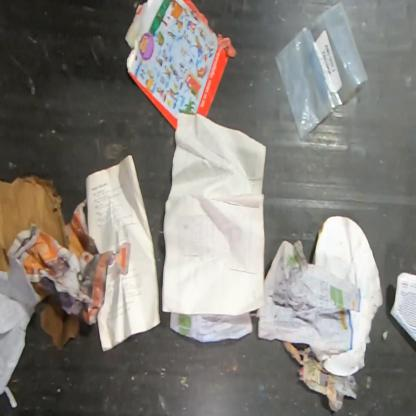cardboard: (124, 0, 238, 131), (312, 214, 384, 378), (0, 174, 72, 272)
soft_plastic: (274, 0, 370, 141)
